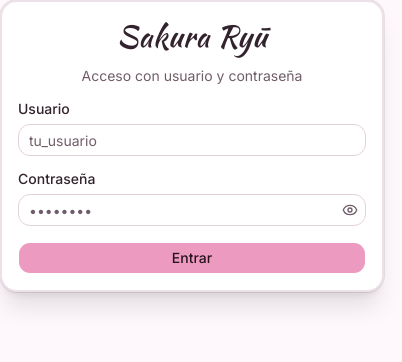
Test case: formulario de login › muestra el error del servidor y no navega si las credenciales fallan
This screenshot has width=402, height=362.
Type "ana" into the field labelled "Usuario" at (192, 140), box [18,124,366,156]
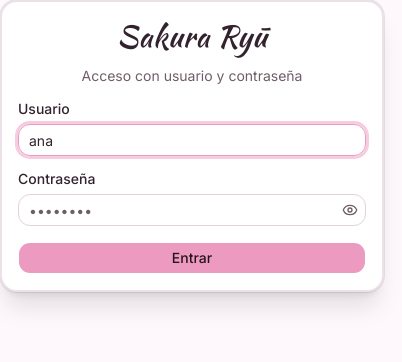
Type "mala" into the password field labelled "Contraseña" at (192, 210), box [18,194,366,226]
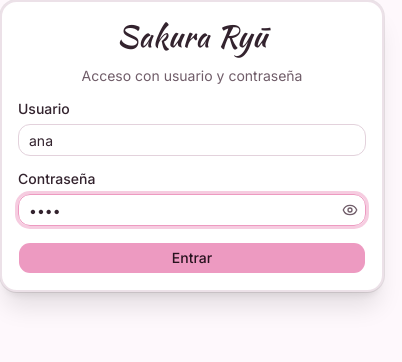
Click the button "Entrar" at (192, 258), box [18,242,366,274]
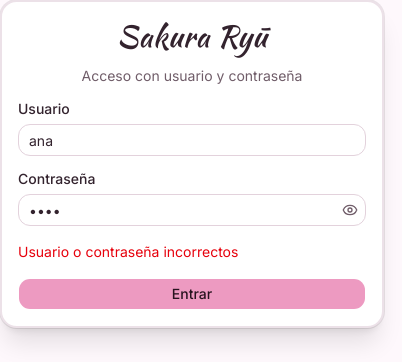
Expected: the button "Entrar" is enabled, [18,278,366,310]
Result: the message reads "Usuario o contraseña incorrectos" at [18,243,238,260]
